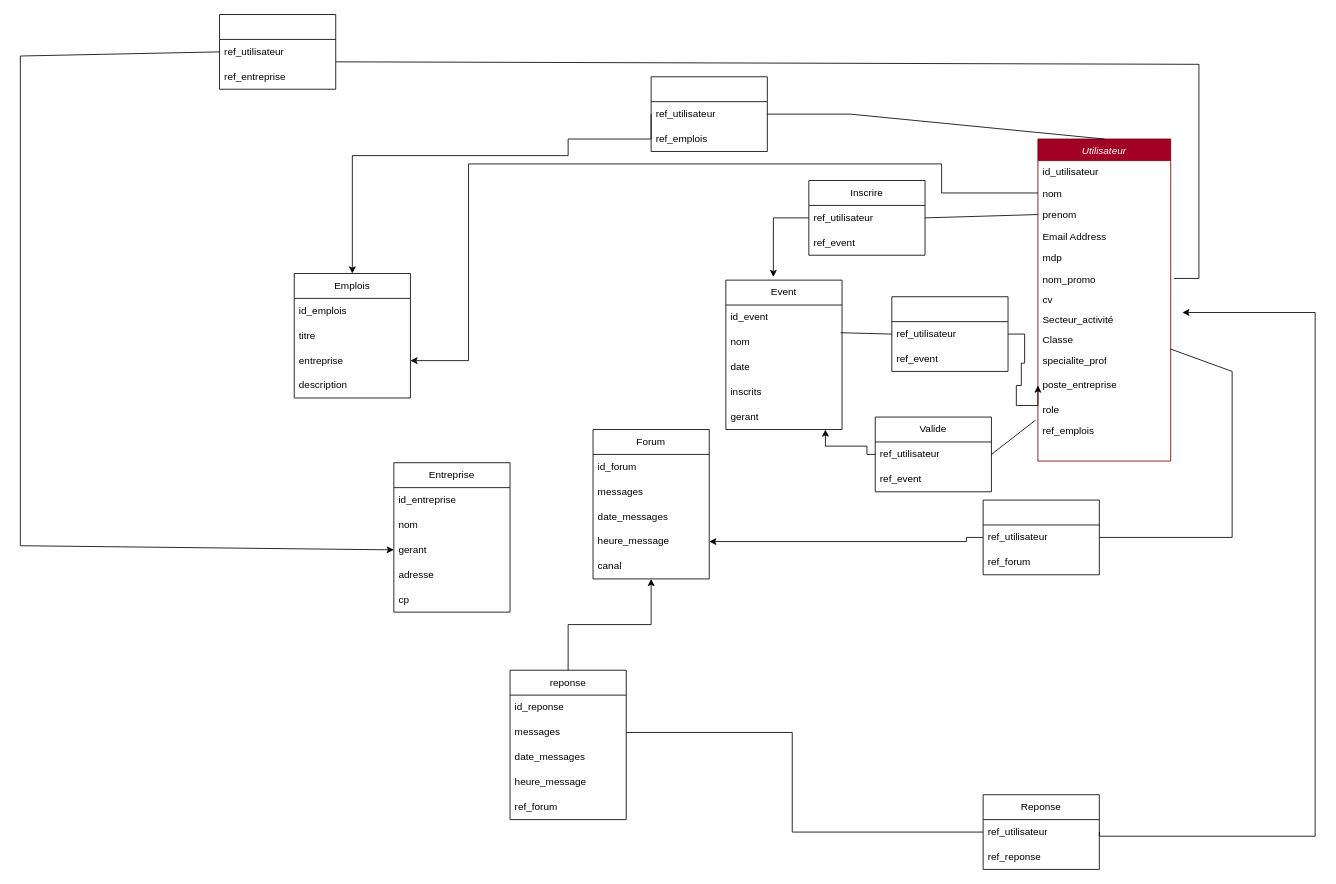
The diagram is 1336 pixels wide and 884 high, and some of its shapes have lost their labels. Here are the shapes that lost their labels. From the top down, the box of each, then its label:
(219, 14, 336, 89): Rattacher
(650, 76, 767, 151): Postuler
(891, 296, 1008, 371): Cree
(982, 499, 1099, 575): Post
